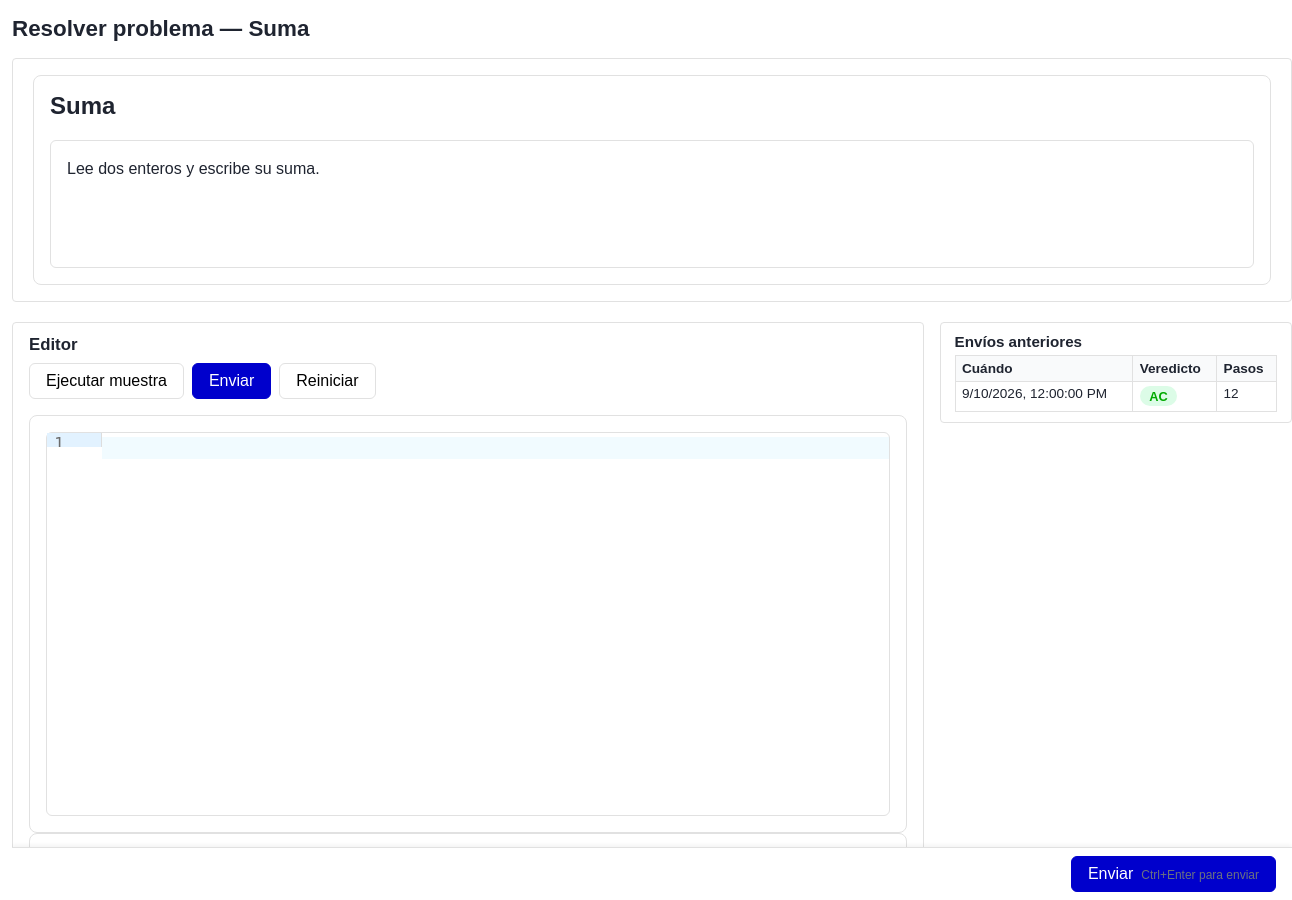
Test case: solve page — previous submissions › expands a row on click and shows per-case details
Expected: the heading "Suma" is shown, [50,92,115,119]
Click the row with test id "my-run-42" at (1116, 396), box [955,381,1277,412]
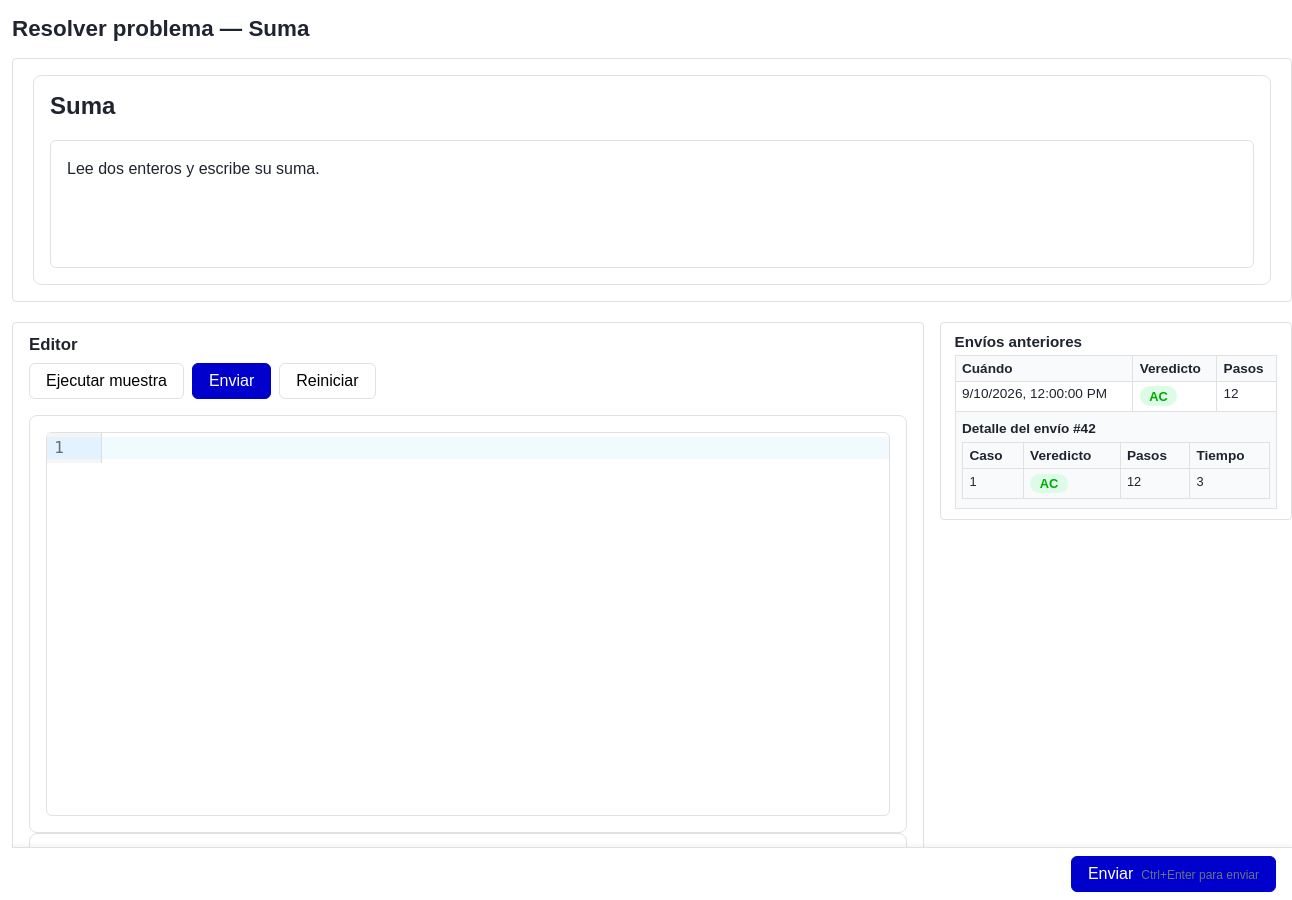
Expected: the text "Detalle del envío #42" is shown, [962,421,1096,436]
Expected: the element showing "Detalle del envío #42 Caso Veredicto Pasos Tiempo 1 AC 12 3" is shown, [962,417,1270,503]
Expected: the text with class "status-badge" below "Tiempo" reads "AC", [1040,476,1058,491]
